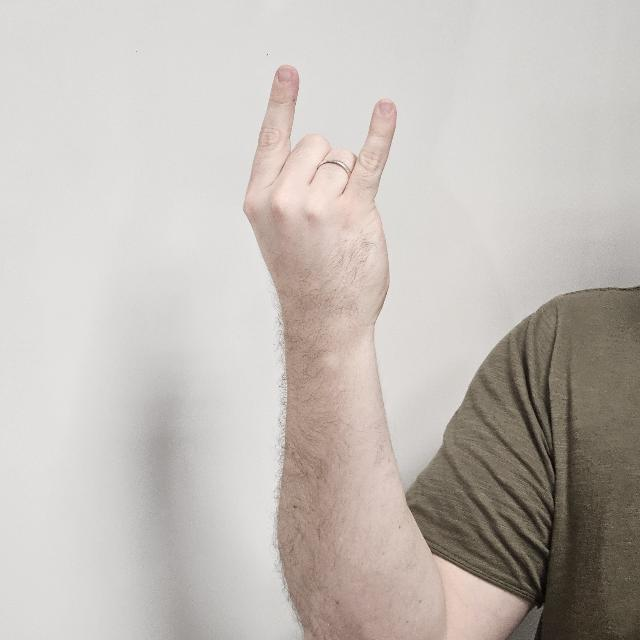L: (243, 64, 399, 348)
